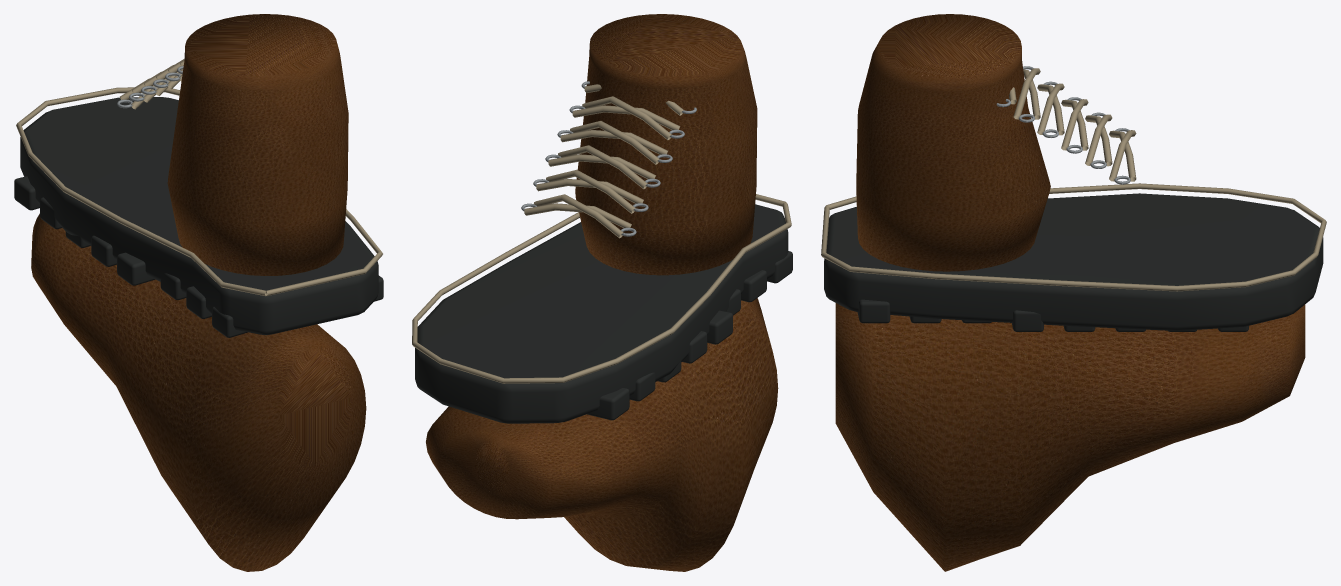
Rendered from player-boot.glb.
The picture shows the model from 3 angles, left to right: view 1: azimuth 30°, elevation 25°; view 2: azimuth 150°, elevation 25°; view 3: azimuth 270°, elevation 25°; orthographic projection.
Parts seen in each view (by area): view 1: player-boot; view 2: player-boot; view 3: player-boot.
Boxes of the visible parts, <box> form: player-boot: <box>14,14,383,571</box>; player-boot: <box>412,14,792,571</box>; player-boot: <box>821,14,1326,571</box>.
Size of the model in its own units: 0.1453 by 0.337 by 0.2962.
4 materials, 2 textured.
